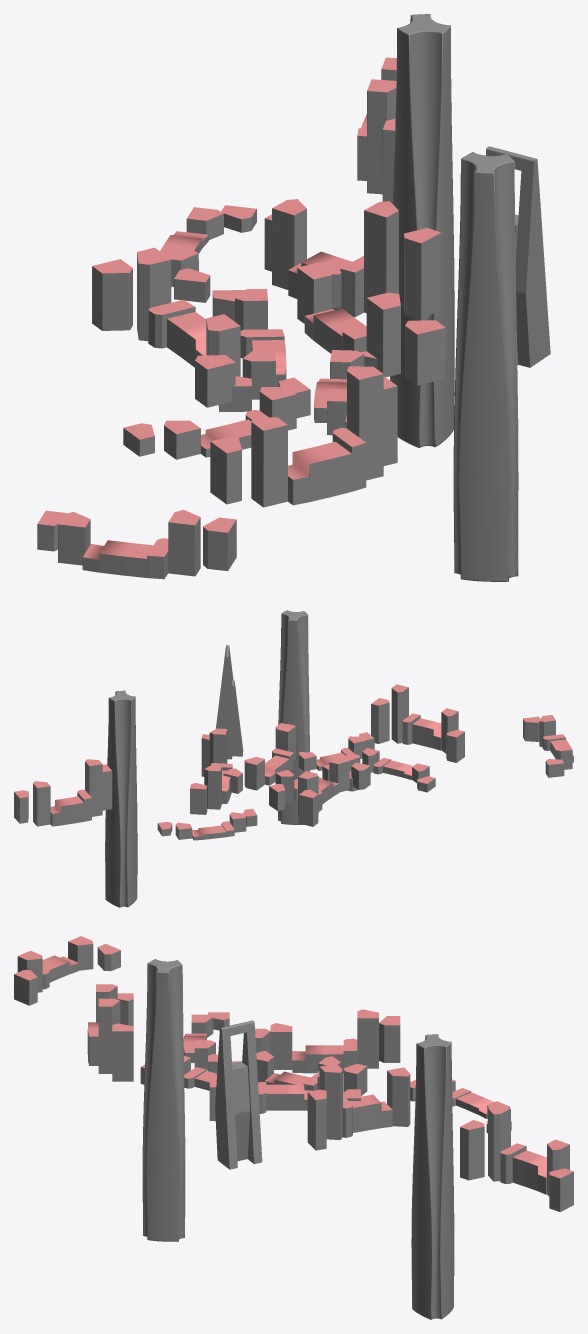
File: OOBBuildings_Combined_01.gltf
3 views of the same model, one above another, from view 1: azimuth 30°, elevation 25°; view 2: azimuth 150°, elevation 25°; view 3: azimuth 270°, elevation 25° (orthographic). The views are drawn at different scales.
Visible parts, largest first — view 1: OOBBuildings_Combined_01; view 2: OOBBuildings_Combined_01; view 3: OOBBuildings_Combined_01.
Part boxes in pixels (x1,y1,x2,y2): OOBBuildings_Combined_01: [37, 14, 550, 581]; OOBBuildings_Combined_01: [14, 610, 573, 907]; OOBBuildings_Combined_01: [14, 936, 573, 1319].
Size of the model in its own units: 1900 by 1097 by 1854.
